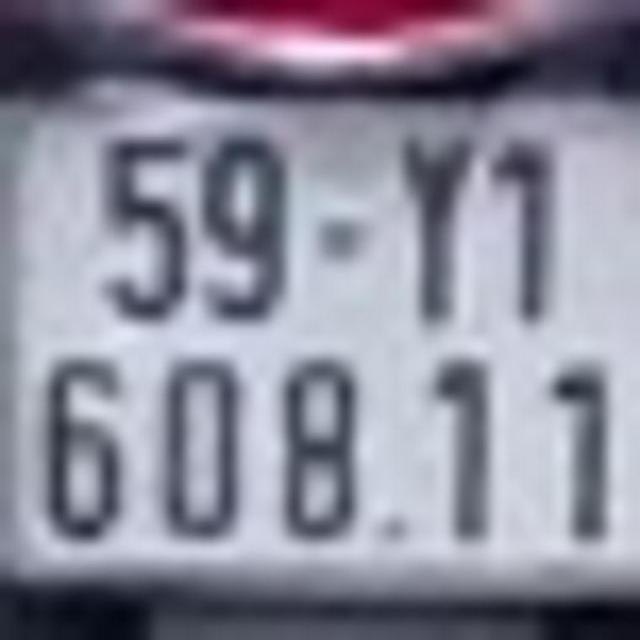0: (157, 342, 244, 540)
1: (491, 125, 568, 320), (548, 345, 616, 545), (431, 344, 497, 539)
5: (96, 120, 189, 330)
6: (47, 350, 123, 550)
8: (279, 349, 360, 544)
9: (200, 122, 292, 330)
Y: (411, 129, 485, 329)
